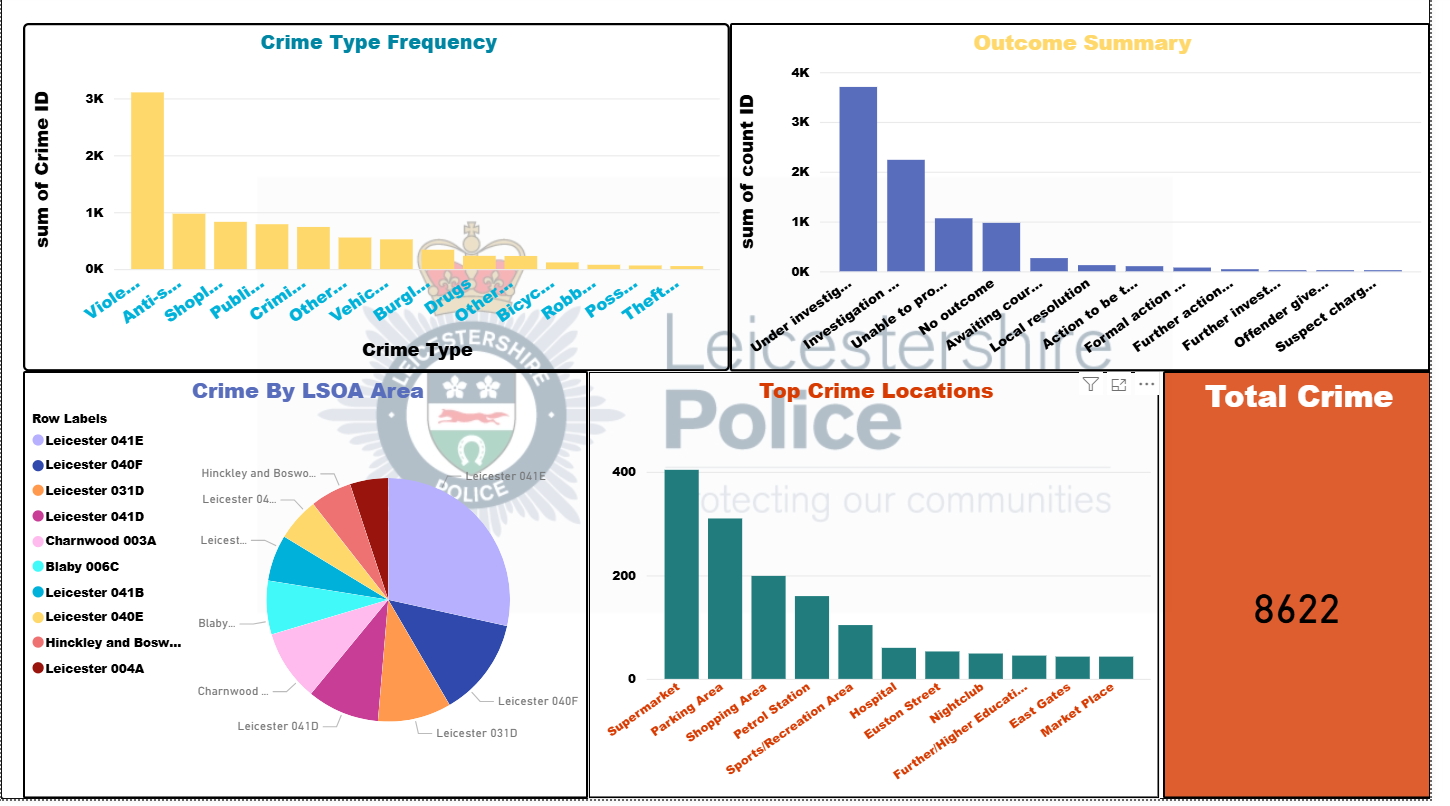

The page's visual inventory and layout, read from the dashboard file:
{"tool":"powerbi","page":{"name":"Page 1","canvas":[1280,720],"ordinal":0},"visuals":[{"type":"clusteredColumnChart","title":"Crime Type Frequency","fields":{"Y":["Sum(Crimetype-crimeID.Count of Crime ID)"],"Category":["Crimetype-crimeID.CrimeType"]},"box":[19.8,24.7,633.3,312.3],"z":0},{"type":"clusteredColumnChart","title":"Top Crime Locations ","fields":{"Y":["Sum(Location-crimeID.Count of Crime ID)"],"Category":["Location-crimeID.Location "]},"box":[525.9,337,512.3,382.7],"z":1000},{"type":"columnChart","title":"Outcome Summary ","fields":{"Category":["Outcome-crimeID.Outcome "],"Y":["Sum(Outcome-crimeID.Count of Crime ID)"]},"box":[653.1,24.7,627.2,312.3],"z":2000},{"type":"pieChart","title":"Crime By LSOA Area","fields":{"Category":["LSOAname-CrimeID.Row Labels"],"Y":["Sum(LSOAname-CrimeID.Count of Crime ID)"]},"box":[19.8,337,506.2,382.7],"z":3000},{"type":"card","title":"Total Crime","fields":{"Values":["CountNonNull(2025-04-leicestershire-street.Crime ID)"]},"box":[1040.7,337,239.5,382.7],"z":4000}]}

Visuals, with their boxes in screenshot pixels (x1, y1, x2, y2), scaled from the page's 1280x720 canvas onto the 1450x806 screenshot:
"Crime Type Frequency" clusteredColumnChart: {"left": 22, "top": 28, "right": 740, "bottom": 377}
"Top Crime Locations " clusteredColumnChart: {"left": 596, "top": 377, "right": 1176, "bottom": 805}
"Outcome Summary " columnChart: {"left": 740, "top": 28, "right": 1449, "bottom": 377}
"Crime By LSOA Area" pieChart: {"left": 22, "top": 377, "right": 596, "bottom": 805}
"Total Crime" card: {"left": 1179, "top": 377, "right": 1449, "bottom": 805}
